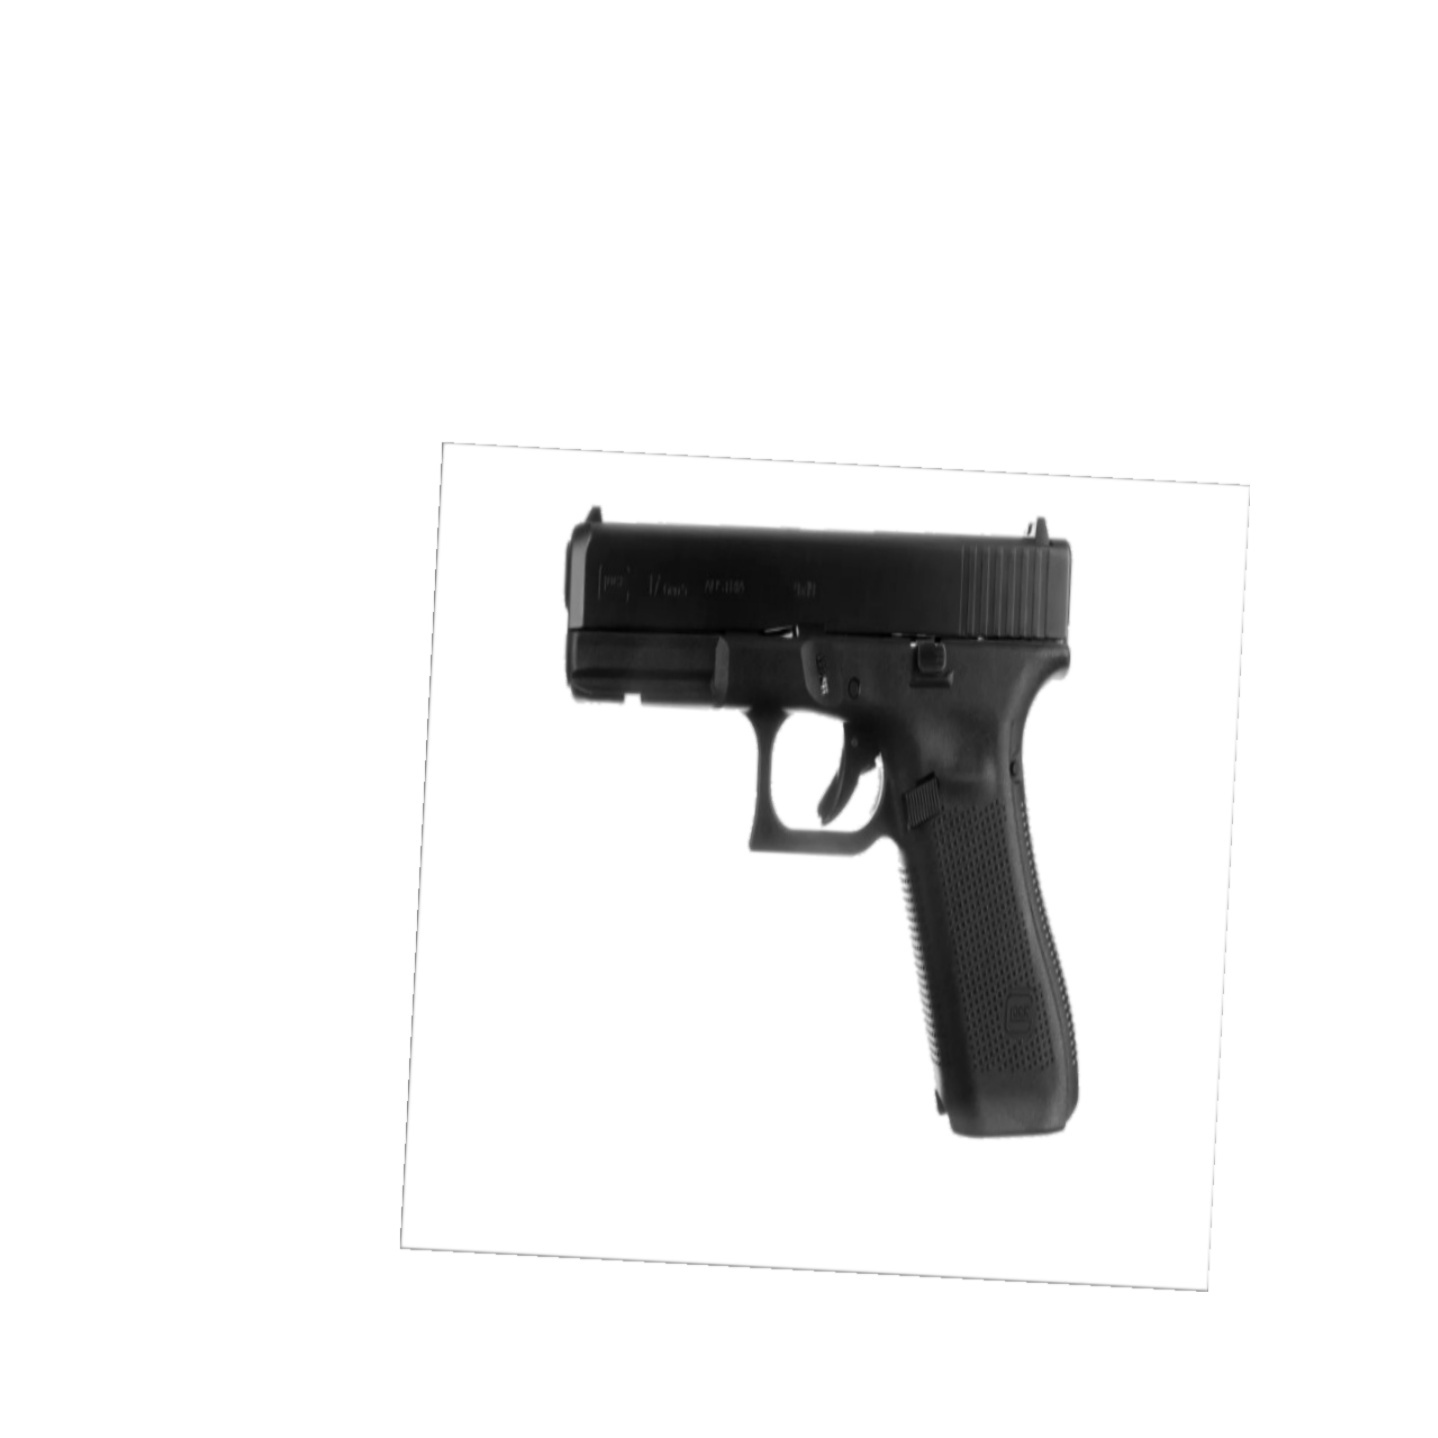gun: (562, 508, 1082, 1140)
